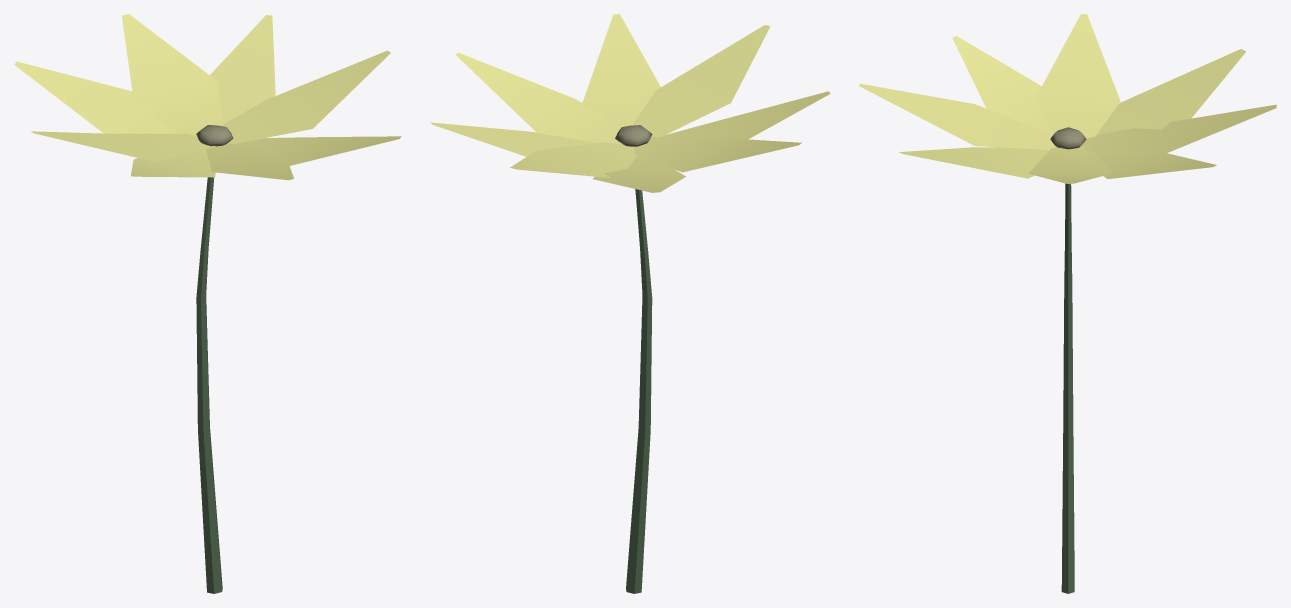
File: M_Flower3.fbx
The picture shows the model from 3 angles, left to right: view 1: azimuth 30°, elevation 25°; view 2: azimuth 150°, elevation 25°; view 3: azimuth 270°, elevation 25°; orthographic projection.
Visible parts, largest first — view 1: polySurface269; view 2: polySurface269; view 3: polySurface269.
Part boxes in pixels (x1,y1,x2,y2): polySurface269: (14,14,401,593); polySurface269: (430,14,830,593); polySurface269: (859,14,1276,593).
Bounding box in the file's own units: 0.2866 × 0.3861 × 0.2973.
